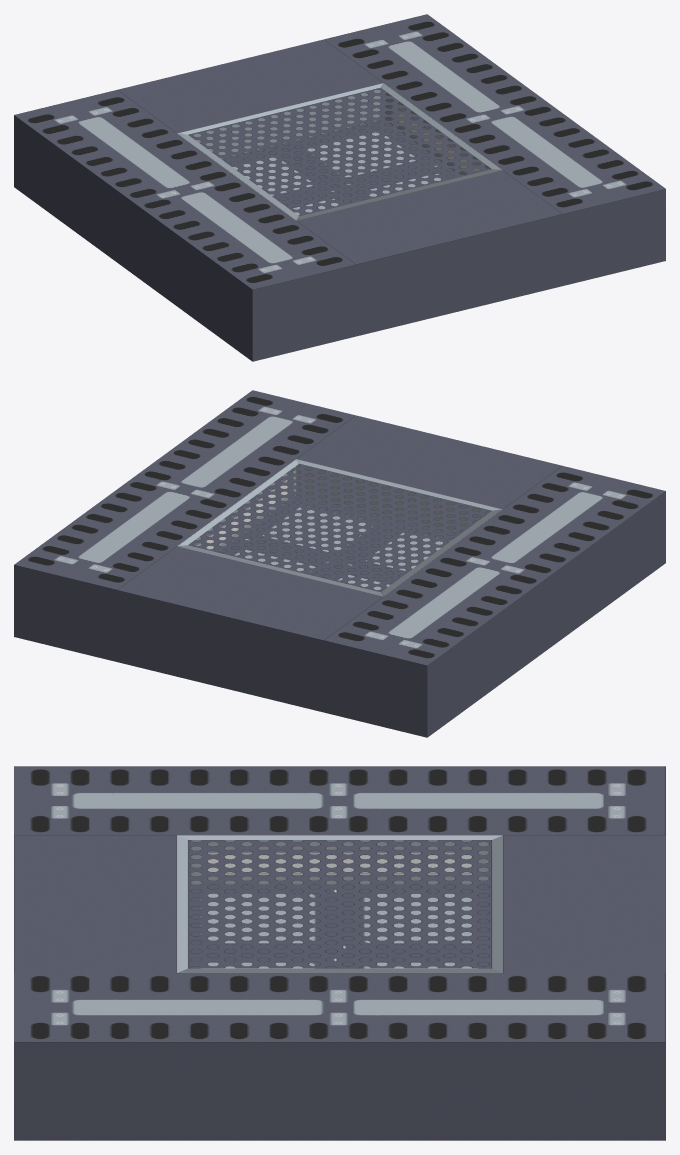
File: Floor_05.FBX
The picture shows the model from 3 angles, top to bottom: view 1: azimuth 30°, elevation 25°; view 2: azimuth 150°, elevation 25°; view 3: azimuth 270°, elevation 25°; orthographic projection. The views are drawn at different scales.
Parts seen in each view (by area): view 1: Floor_05; view 2: Floor_05; view 3: Floor_05.
Part boxes in pixels (<box>): Floor_05: <box>14,14,665,361</box>; Floor_05: <box>14,390,665,737</box>; Floor_05: <box>14,766,665,1140</box>.
Size of the model in its own units: 6 by 1 by 6.
